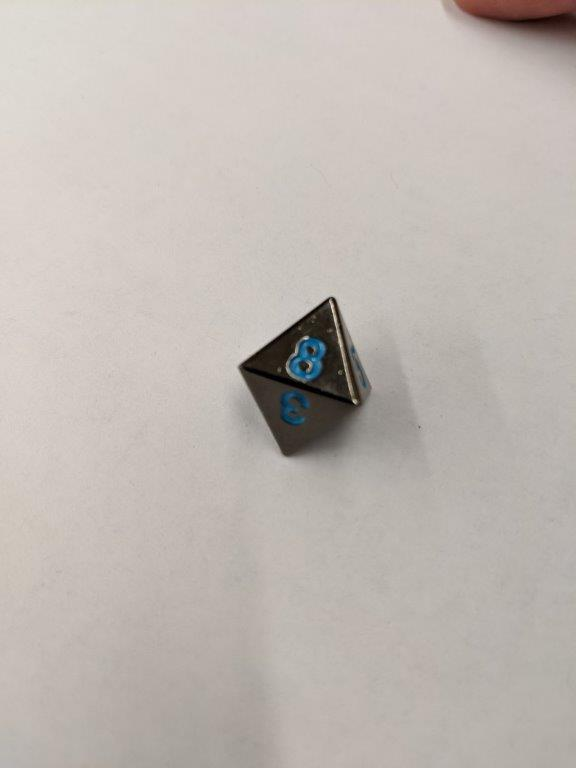d8-8: (236, 296, 375, 457)
